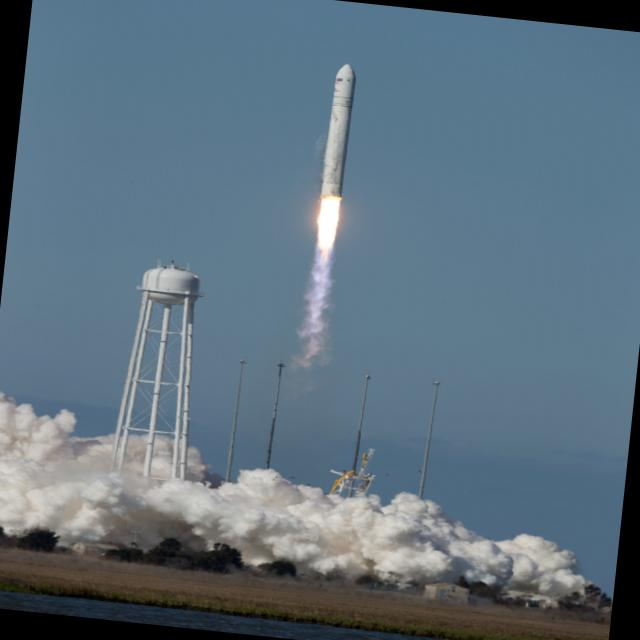rocket: (281, 50, 375, 374)
